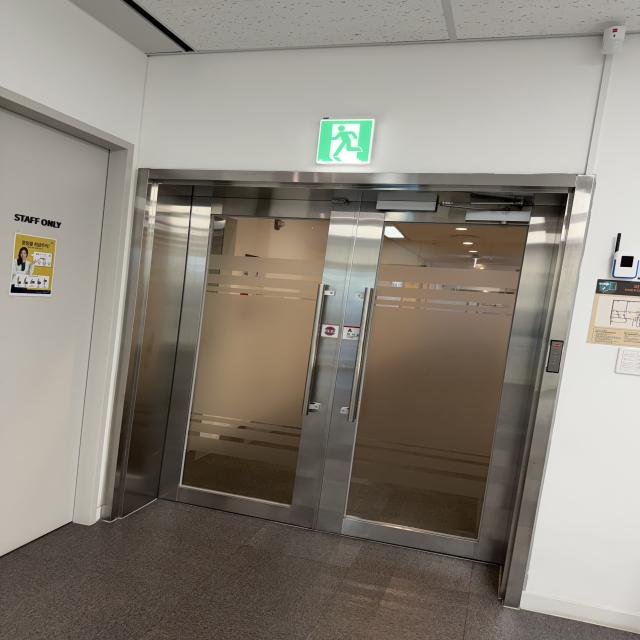rear_door: (178, 188, 524, 563)
